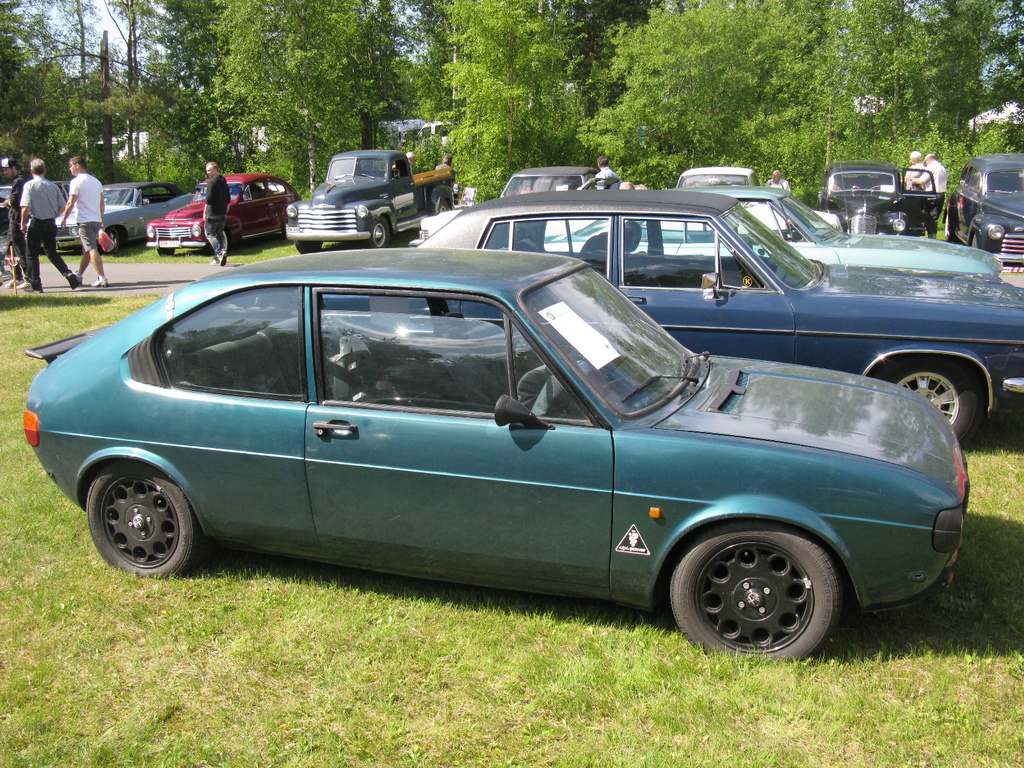Car: (23, 131, 1023, 668), (145, 172, 300, 257), (23, 179, 194, 254), (0, 177, 71, 252)
